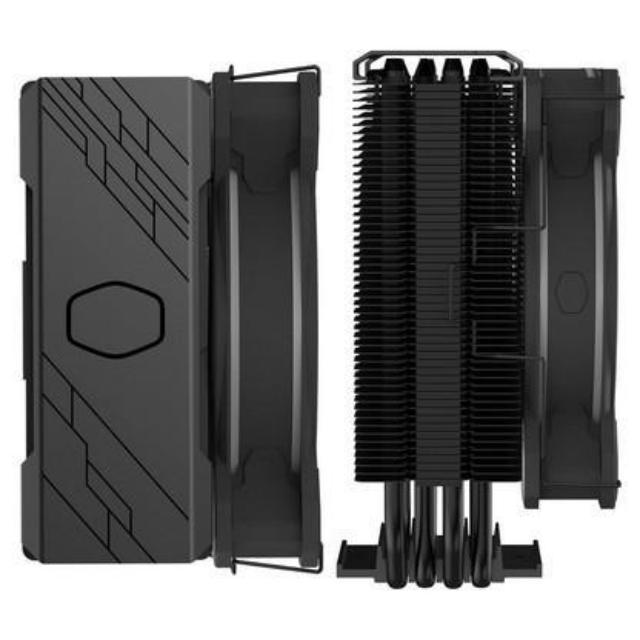CPU_Fan: (17, 66, 326, 574), (350, 43, 628, 592)
